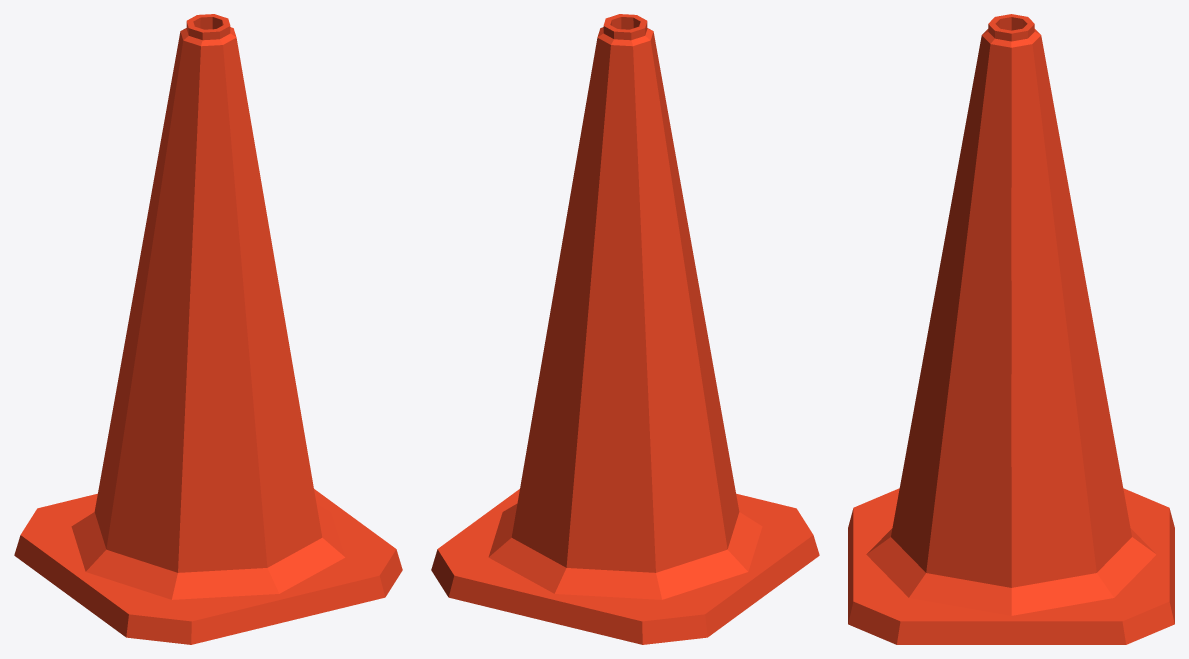
File: SM_Cone_City.fbx
3 views of the same model, side by side, from view 1: azimuth 30°, elevation 25°; view 2: azimuth 150°, elevation 25°; view 3: azimuth 270°, elevation 25° (orthographic). The views are drawn at different scales.
Parts seen in each view (by area): view 1: SM_Cone_City; view 2: SM_Cone_City; view 3: SM_Cone_City.
Boxes of the visible parts, bbox=[...] form: SM_Cone_City: bbox=[14, 14, 402, 644]; SM_Cone_City: bbox=[431, 14, 819, 644]; SM_Cone_City: bbox=[848, 14, 1174, 644].
Bounding box in the file's own units: 0.3331 × 0.6245 × 0.3331.
